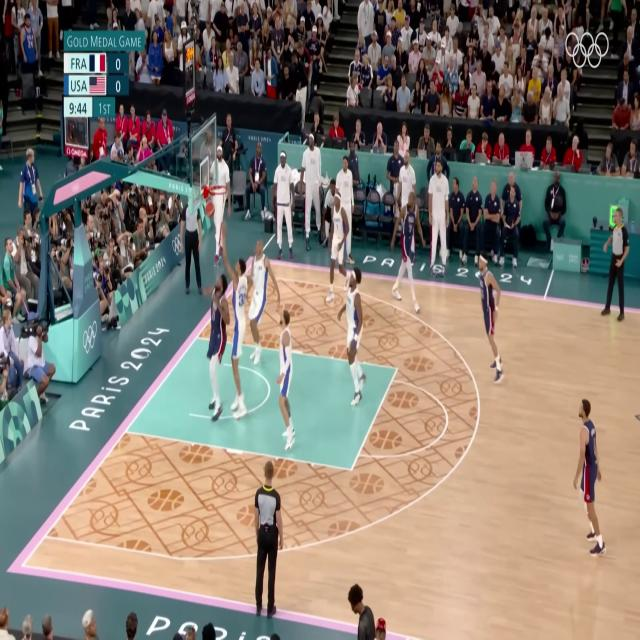player: (569, 386, 608, 570), (264, 295, 302, 468), (337, 264, 376, 415), (468, 247, 508, 388), (395, 187, 433, 325), (219, 250, 249, 424), (236, 235, 276, 358), (200, 266, 228, 420), (324, 181, 348, 297)
